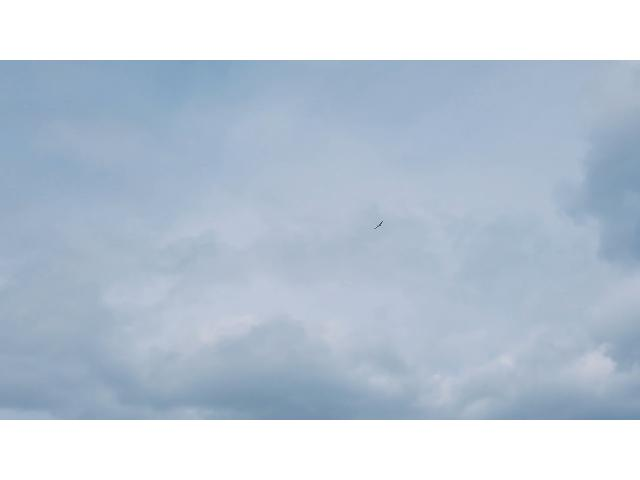Anti-Drone: (372, 218, 386, 230)
